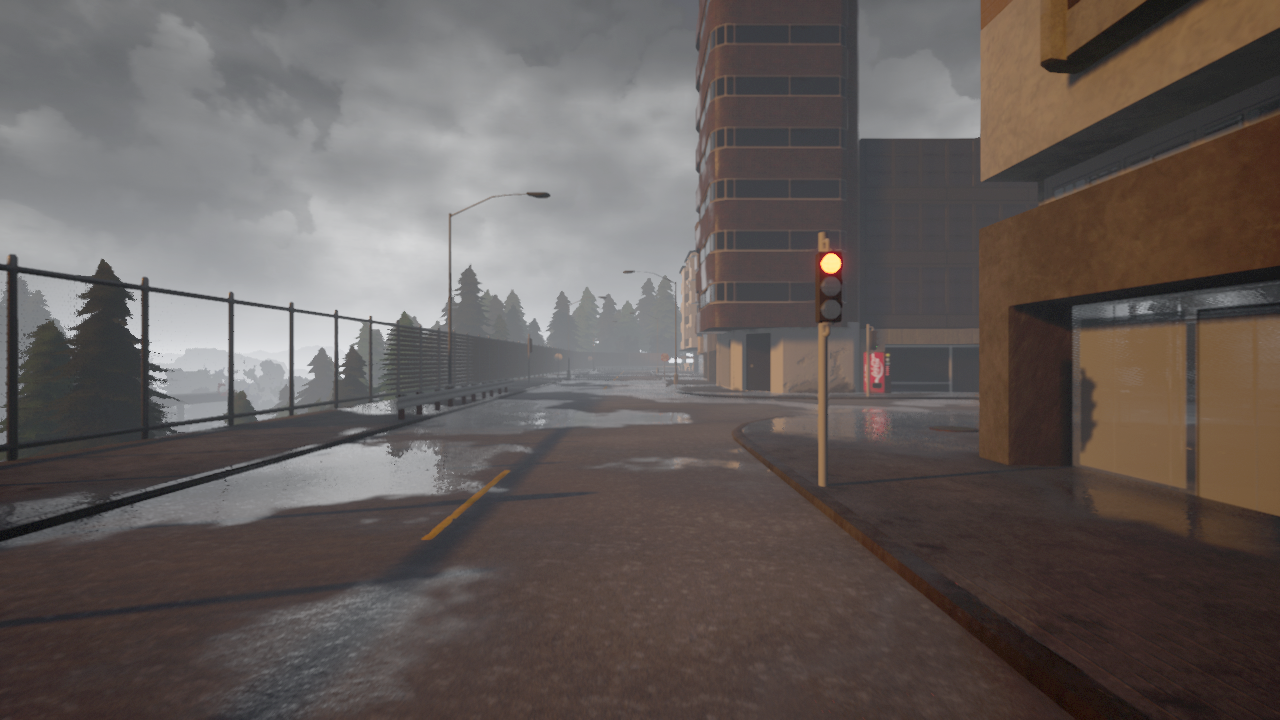red: (813, 251, 841, 322)
